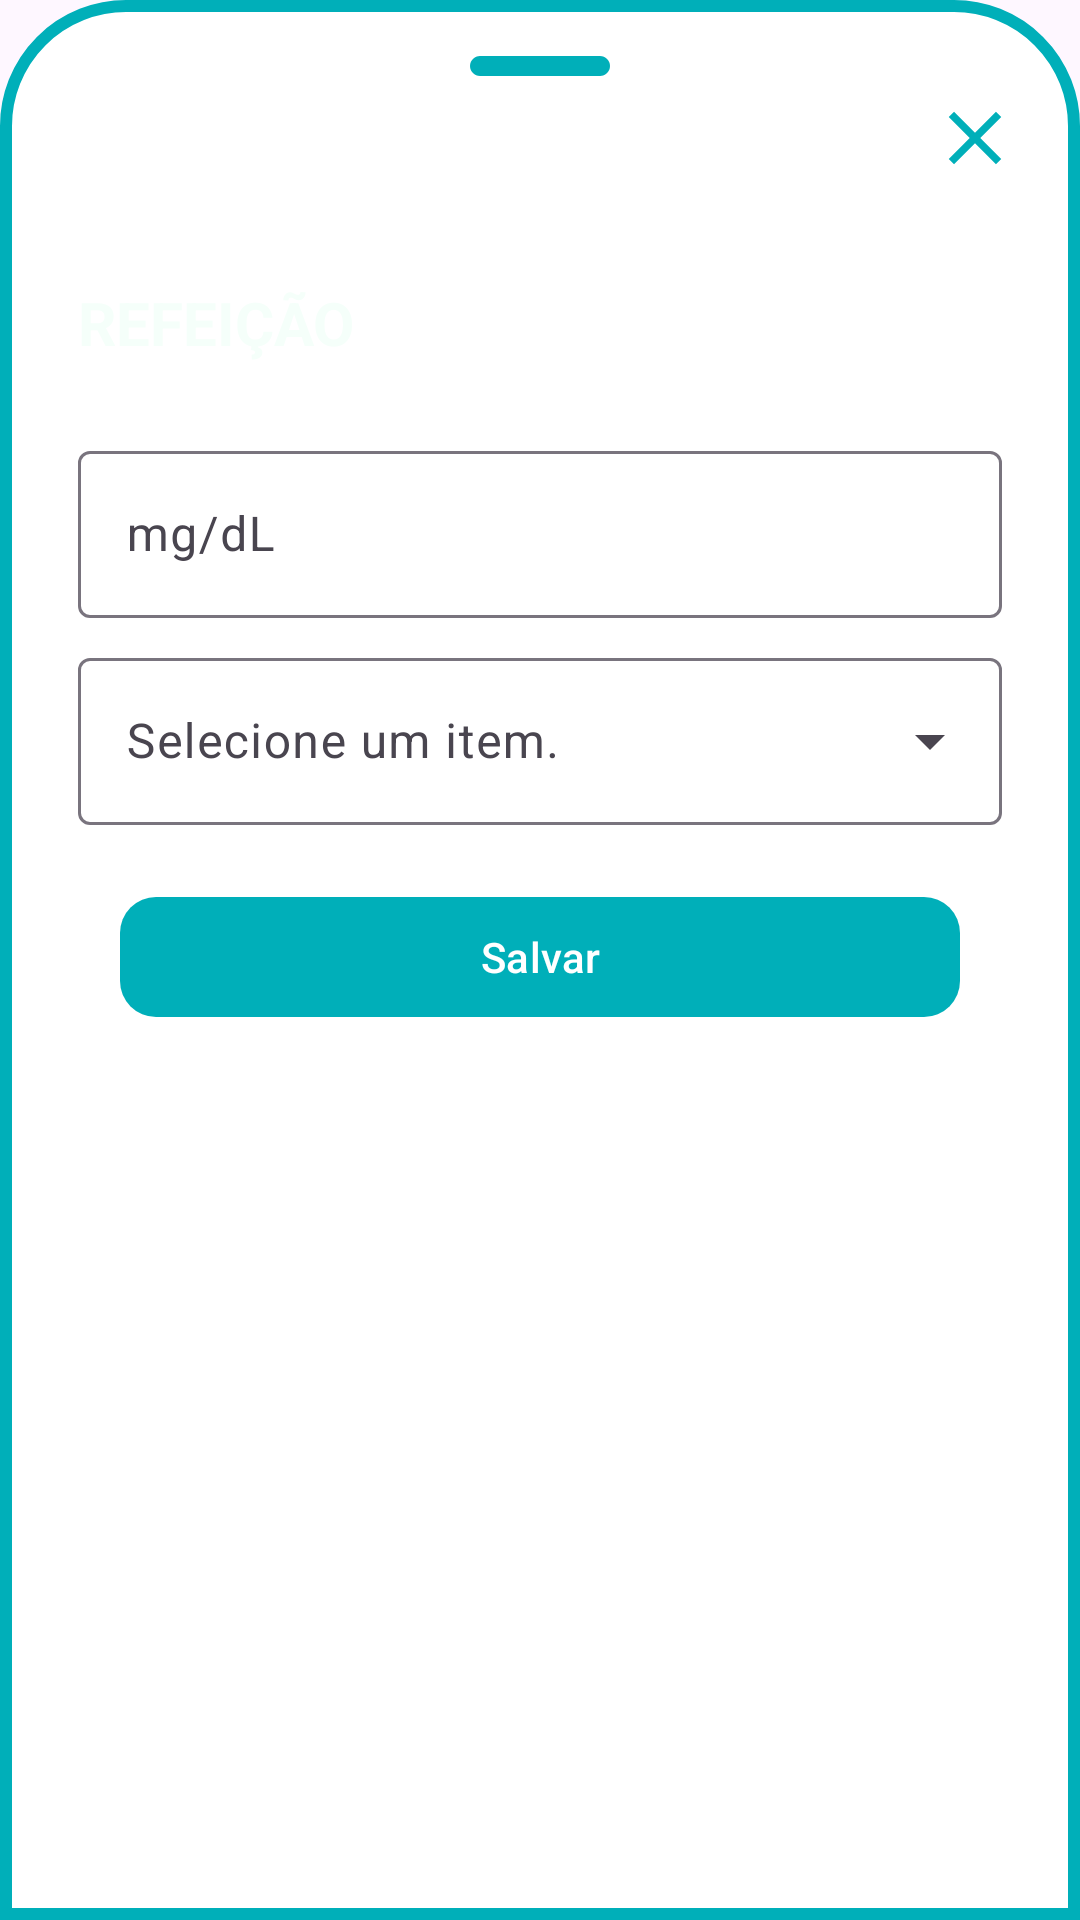

Named icons in this screenshot (1080 × 1920) and their centers, (x=x, y=y):
close: (x=975, y=138)
